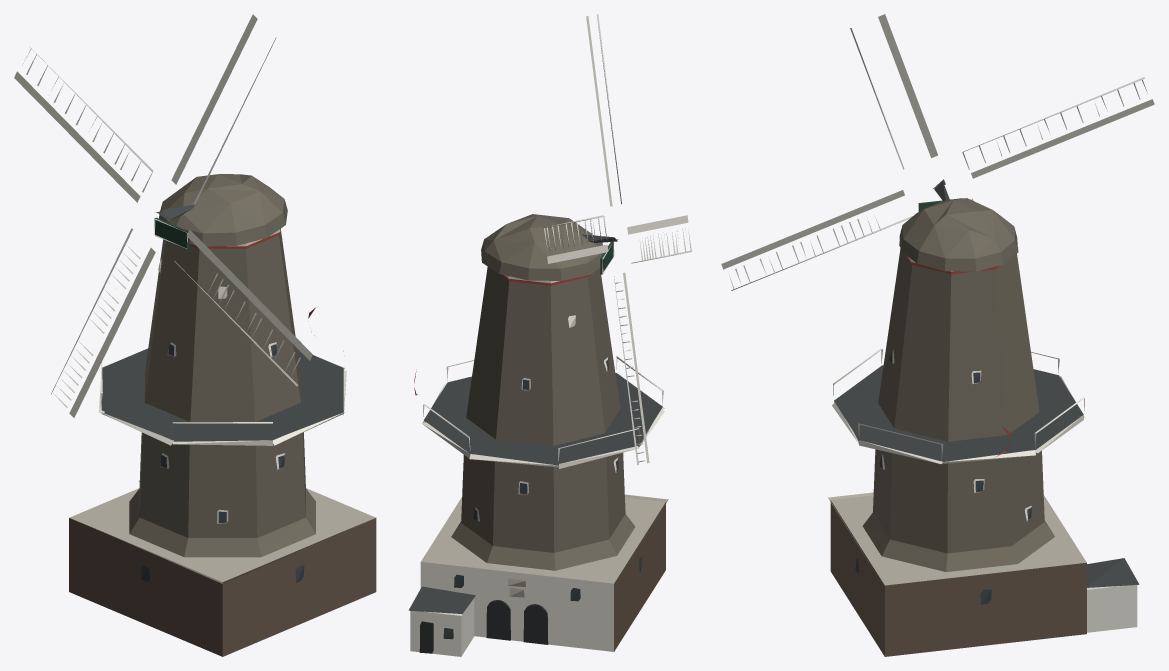
Rendered from de-bloem.lod1.glb.
The picture shows the model from 3 angles, left to right: view 1: azimuth 30°, elevation 25°; view 2: azimuth 150°, elevation 25°; view 3: azimuth 270°, elevation 25°; orthographic projection. The views are drawn at different scales.
Parts seen in each view (by area): view 1: de-bloem; view 2: de-bloem; view 3: de-bloem.
Boxes of the visible parts, x1,y1,x2,y2 form: de-bloem: [14, 14, 376, 656]; de-bloem: [408, 14, 692, 656]; de-bloem: [721, 14, 1154, 656].
Size of the model in its own units: 16.25 by 36.86 by 24.76.
